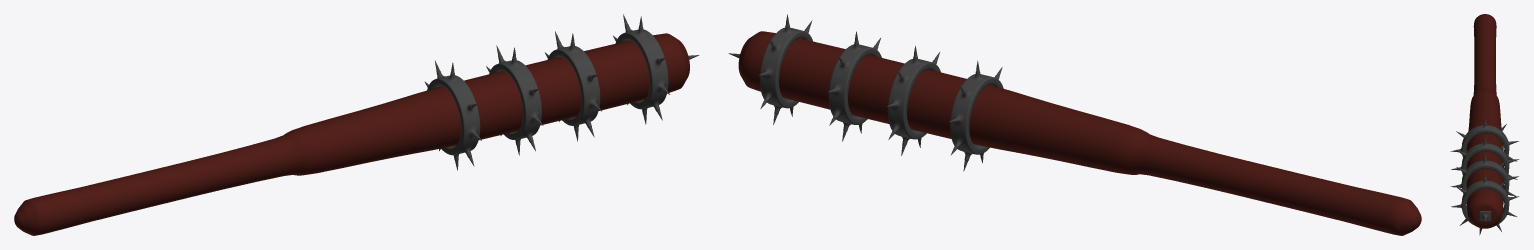
File: club.fbx
3 renders of one model, left to right at view 1: azimuth 30°, elevation 25°; view 2: azimuth 150°, elevation 25°; view 3: azimuth 270°, elevation 25°, orthographic. The views are drawn at different scales.
Visible parts, largest first — view 1: Cylinder001, Tube001, Tube004, Tube002, Tube003; view 2: Cylinder001, Tube001, Tube004, Tube002, Tube003; view 3: Cylinder001, Tube004, Tube003, Tube001, Tube002, Tube005.
Boxes of the visible parts, box(x1,y1,x2,y2) form: Cylinder001: box(14, 33, 689, 235); Tube001: box(424, 60, 481, 170); Tube004: box(613, 14, 669, 124); Tube002: box(486, 45, 543, 155); Tube003: box(544, 31, 601, 141); Cylinder001: box(738, 31, 1421, 235); Tube001: box(949, 60, 1003, 171); Tube004: box(759, 14, 812, 124); Tube002: box(887, 45, 940, 155); Tube003: box(828, 31, 881, 141); Cylinder001: box(1466, 14, 1503, 228); Tube004: box(1451, 172, 1519, 235); Tube003: box(1450, 152, 1518, 196); Tube001: box(1450, 117, 1518, 161); Tube002: box(1451, 135, 1519, 188); Tube005: box(1479, 211, 1491, 221).
Bounding box in the file's own units: 747 × 110 × 109.
